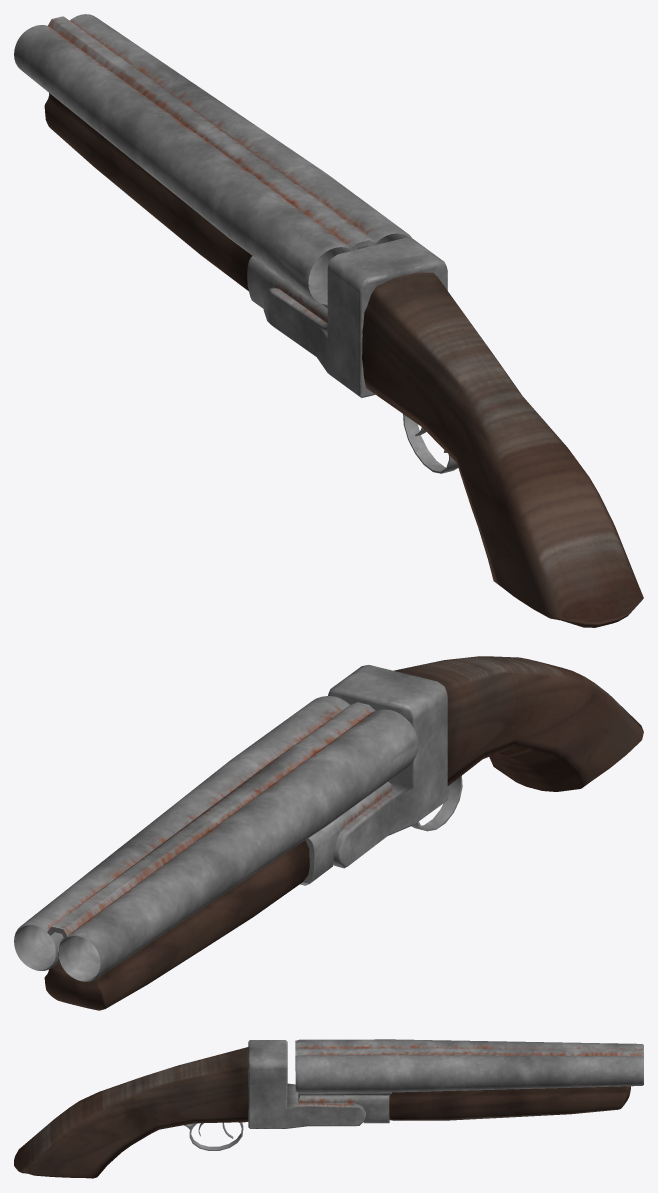
The model's file is Normal sawed off.fbx.
The picture shows the model from 3 angles, top to bottom: view 1: azimuth 30°, elevation 25°; view 2: azimuth 150°, elevation 25°; view 3: azimuth 270°, elevation 25°; orthographic projection. The views are drawn at different scales.
Parts seen in each view (by area): view 1: Shotgun.003, Shotgun.001, Shotgun.002, Shotgun.004, Shotgun.005; view 2: Shotgun.001, Shotgun.003, Shotgun.002, Shotgun.004, Shotgun.005; view 3: Shotgun.001, Shotgun.003, Shotgun.004, Shotgun.002, Shotgun.005.
Part boxes in pixels (<box>): Shotgun.003: <box>362,272,643,627</box>; Shotgun.001: <box>14,14,412,323</box>; Shotgun.002: <box>263,237,447,398</box>; Shotgun.004: <box>44,93,252,291</box>; Shotgun.005: <box>403,414,458,473</box>; Shotgun.001: <box>14,696,418,981</box>; Shotgun.003: <box>394,656,643,791</box>; Shotgun.002: <box>328,665,447,868</box>; Shotgun.004: <box>44,840,309,1010</box>; Shotgun.005: <box>411,776,462,831</box>; Shotgun.001: <box>295,1039,643,1123</box>; Shotgun.003: <box>14,1047,248,1178</box>; Shotgun.004: <box>389,1086,630,1120</box>; Shotgun.002: <box>248,1040,365,1128</box>; Shotgun.005: <box>184,1122,243,1150</box>.
Bounding box in the file's own units: 4.44 × 8.15 × 37.6.
Materials: 1 (1 with a texture image).
